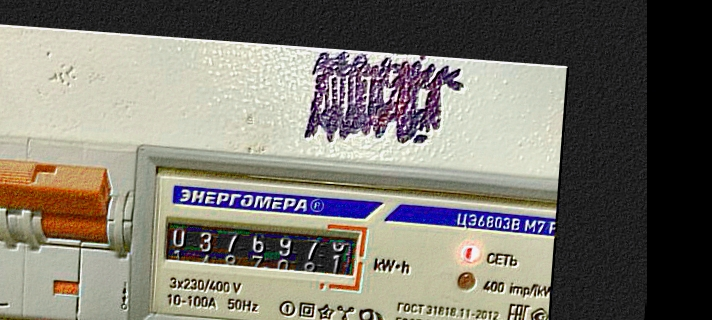0: (170, 226, 187, 249)
1: (330, 253, 340, 275)
3: (198, 231, 213, 253)
6: (250, 231, 267, 255)
7: (224, 230, 240, 254), (304, 236, 320, 260)
9: (277, 235, 293, 258)
screen: (152, 208, 371, 295)
